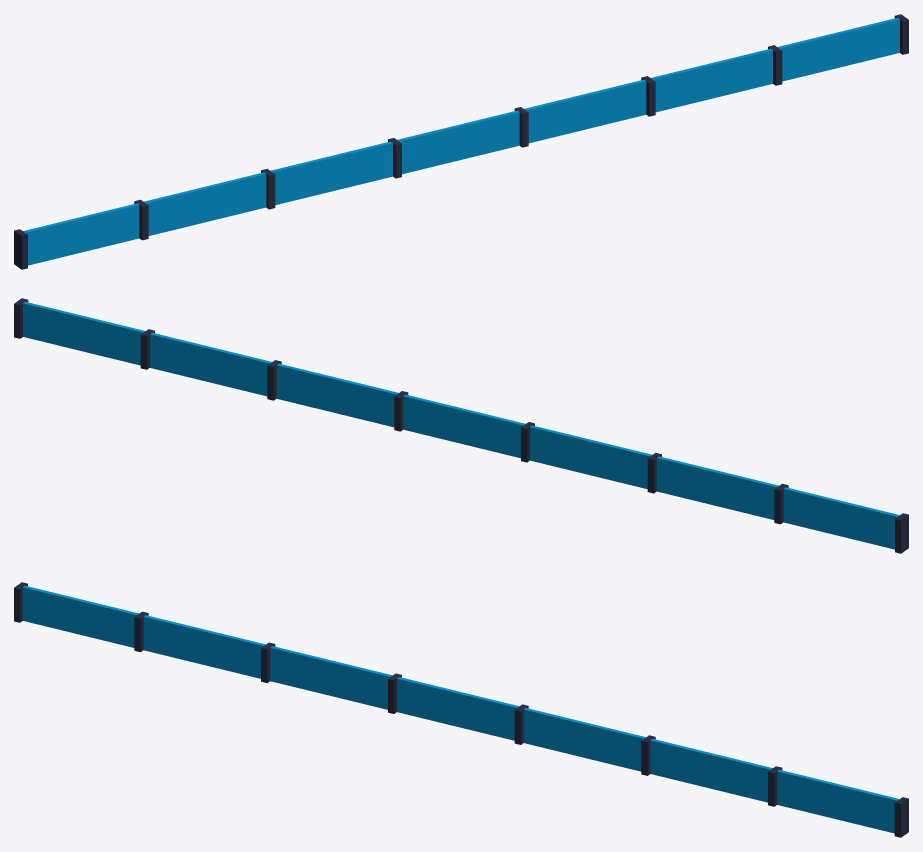
3 views of the same model, one above another, from view 1: azimuth 30°, elevation 25°; view 2: azimuth 150°, elevation 25°; view 3: azimuth 330°, elevation 25° (orthographic).
Visible parts, largest first — view 1: barrier_left; view 2: barrier_left; view 3: barrier_left.
Boxes of the visible parts, x1,y1,x2,y2 form: barrier_left: (14,14,908,269); barrier_left: (14,298,908,553); barrier_left: (14,582,908,837).
Bounding box in the file's own units: 85.32 × 3.08 × 1.31.
Materials: 1 (1 with a texture image).
